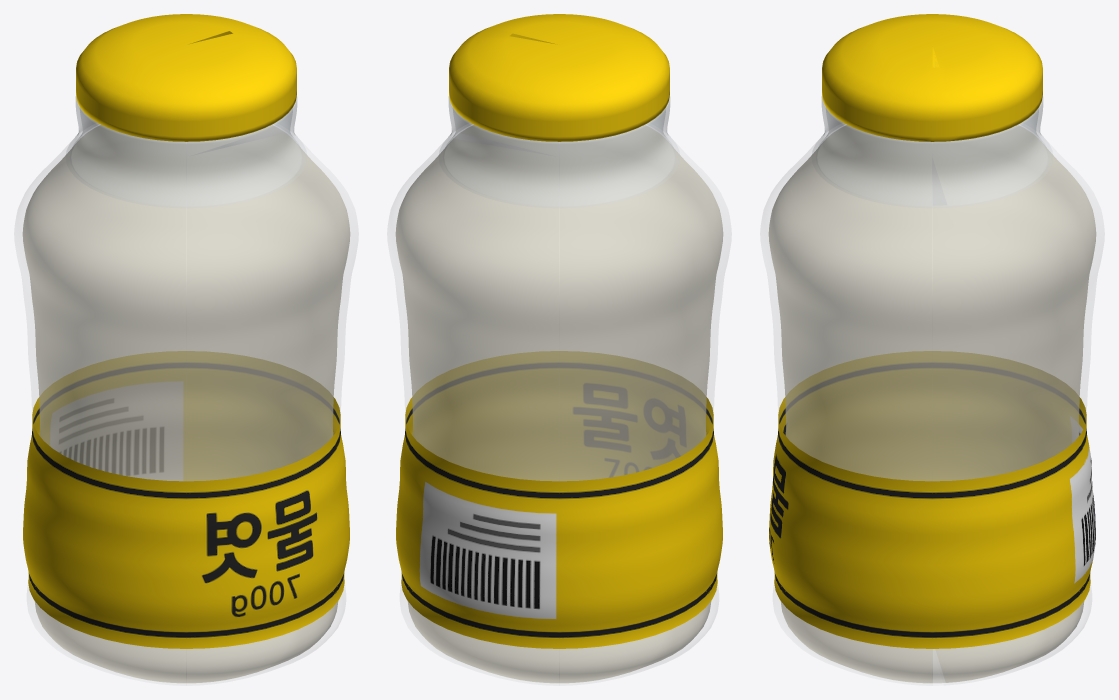
File: item-corn_syrup_700.glb
3 renders of one model, left to right at view 1: azimuth 30°, elevation 25°; view 2: azimuth 150°, elevation 25°; view 3: azimuth 270°, elevation 25°, orthographic.
Visible parts, largest first — view 1: contents, body, cap, wall; view 2: contents, body, cap, wall; view 3: contents, body, cap, wall.
Boxes of the visible parts, x1,y1,x2,y2 form: contents: (22, 125, 350, 683); body: (14, 96, 358, 685); cap: (76, 14, 296, 141); wall: (70, 108, 302, 205); contents: (395, 125, 723, 683); body: (387, 96, 731, 685); cap: (449, 14, 669, 141); wall: (443, 108, 675, 205); contents: (768, 125, 1096, 683); body: (760, 96, 1104, 685); cap: (822, 14, 1042, 141); wall: (816, 108, 1048, 205).
Size of the model in its own units: 0.0891 by 0.172 by 0.0891.
Materials: 5 (1 with a texture image).
